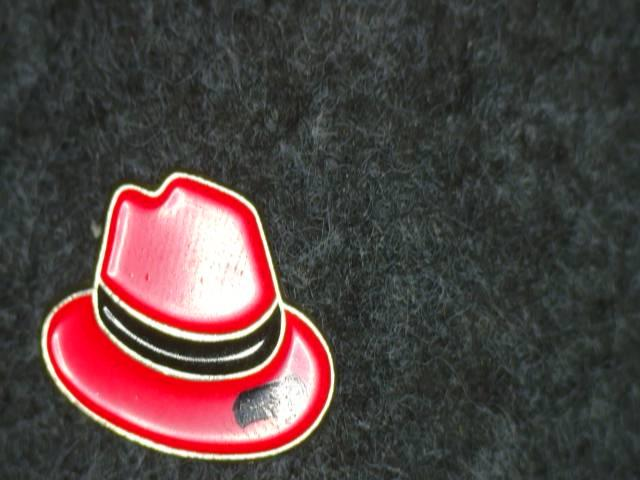Red-Hat: (18, 153, 364, 475)
Scratch: (226, 356, 317, 440)
